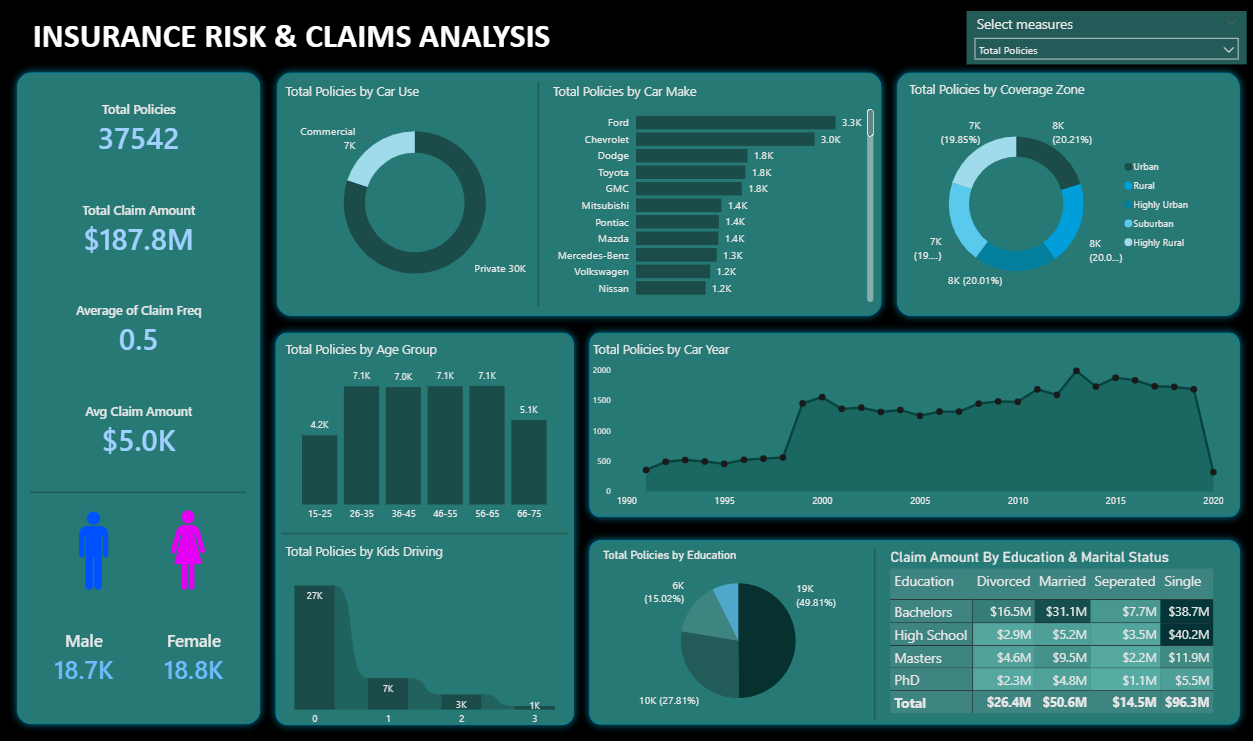

Layout of this report page (visuals, bound fields, positions):
{"tool":"powerbi","page":{"name":"Insurance ","canvas":[1600,950],"ordinal":0},"visuals":[{"type":"textbox","box":[38.3,18.3,686.7,70],"z":0},{"type":"shape","box":[13.3,88.3,330,850],"z":1000},{"type":"cardVisual","fields":{"Data":["insurance_data_car.Total Policies","insurance_data_car.Total Claim Amount","Avg(insurance_data_car.Claim Freq)","insurance_data_car.Avg Claim Amount"]},"box":[43.3,110,270,503.3],"z":2000},{"type":"cardVisual","fields":{"Data":["insurance_data_car.Male Count","insurance_data_car.Female Count"]},"box":[43.3,780,270,123.3],"z":3000},{"type":"image","box":[58.3,631.7,123.3,148.3],"z":4000},{"type":"image","box":[173.3,643.3,135,125],"z":5000},{"type":"slicer","fields":{"Values":["Select measures.Select measures"]},"box":[1231.7,18.3,356.7,68.3],"z":6000},{"type":"shape","box":[343.3,88.3,790,330],"z":7000},{"type":"donutChart","fields":{"Y":["insurance_data_car.Total Claim Amount"],"Category":["insurance_data_car.Car Use"]},"box":[360,110,340,285],"z":8000},{"type":"clusteredBarChart","fields":{"Y":["insurance_data_car.Total Claim Amount"],"Category":["insurance_data_car.Car Make"]},"box":[700,110,418.3,285],"z":9000},{"type":"shape","box":[1133.3,88.3,456.7,330],"z":10000},{"type":"donutChart","fields":{"Y":["insurance_data_car.Total Claim Amount"],"Category":["insurance_data_car.Coverage Zone"]},"box":[1153.3,106.7,375,295],"z":11000},{"type":"shape","box":[341.7,418.3,400,520],"z":12000},{"type":"clusteredColumnChart","fields":{"Y":["insurance_data_car.Total Claim Amount"],"Category":["insurance_data_car.Age Group"]},"box":[360,438.3,365,240],"z":13000},{"type":"ribbonChart","fields":{"Y":["insurance_data_car.Total Claim Amount"],"Category":["insurance_data_car.Kids Driving"]},"box":[360,695,365,243.3],"z":14000},{"type":"shape","box":[741.7,418.3,848.3,255],"z":15000},{"type":"lineChart","fields":{"Y":["insurance_data_car.Total Claim Amount"],"Category":["insurance_data_car.Car Year"]},"box":[751.7,438.3,813.3,223.3],"z":16000},{"type":"shape","box":[741.7,683.3,848.3,255],"z":17000},{"type":"pieChart","fields":{"Y":["insurance_data_car.Total Claim Amount"],"Category":["insurance_data_car.Education"]},"box":[763.3,703.3,355,218.3],"z":18000},{"type":"pivotTable","title":"Claim Amount By Education & Marital Status","fields":{"Rows":["insurance_data_car.Education"],"Columns":["insurance_data_car.Marital Status"],"Values":["insurance_data_car.Total Claim Amount"]},"box":[1130,703.3,470,243.3],"z":19000},{"type":"shape","box":[650,110,75,285],"z":20000},{"type":"shape","box":[1078.3,703.3,75,218.3],"z":21000},{"type":"shape","box":[360,665,365,38.3],"z":22000},{"type":"shape","box":[40,613.3,275,38.3],"z":23000}]}

Visuals, with their boxes in screenshot pixels (x1, y1, x2, y2), scaled from the page's 1600x950 canvas onto the 1253x741 screenshot:
textbox: (30, 14, 568, 69)
shape: (10, 69, 269, 732)
cardVisual - insurance_data_car.Total Policies x insurance_data_car.Total Claim Amount: (34, 86, 245, 478)
cardVisual - insurance_data_car.Male Count x insurance_data_car.Female Count: (34, 608, 245, 705)
image: (46, 493, 142, 608)
image: (136, 502, 241, 599)
slicer - Select measures.Select measures: (965, 14, 1244, 68)
shape: (269, 69, 888, 326)
donutChart - insurance_data_car.Total Claim Amount x insurance_data_car.Car Use: (282, 86, 548, 308)
clusteredBarChart - insurance_data_car.Total Claim Amount x insurance_data_car.Car Make: (548, 86, 876, 308)
shape: (888, 69, 1245, 326)
donutChart - insurance_data_car.Total Claim Amount x insurance_data_car.Coverage Zone: (903, 83, 1197, 313)
shape: (268, 326, 581, 732)
clusteredColumnChart - insurance_data_car.Total Claim Amount x insurance_data_car.Age Group: (282, 342, 568, 529)
ribbonChart - insurance_data_car.Total Claim Amount x insurance_data_car.Kids Driving: (282, 542, 568, 732)
shape: (581, 326, 1245, 525)
lineChart - insurance_data_car.Total Claim Amount x insurance_data_car.Car Year: (589, 342, 1226, 516)
shape: (581, 533, 1245, 732)
pieChart - insurance_data_car.Total Claim Amount x insurance_data_car.Education: (598, 549, 876, 719)
"Claim Amount By Education & Marital Status" pivotTable: (885, 549, 1252, 738)
shape: (509, 86, 568, 308)
shape: (844, 549, 903, 719)
shape: (282, 519, 568, 549)
shape: (31, 478, 247, 508)
